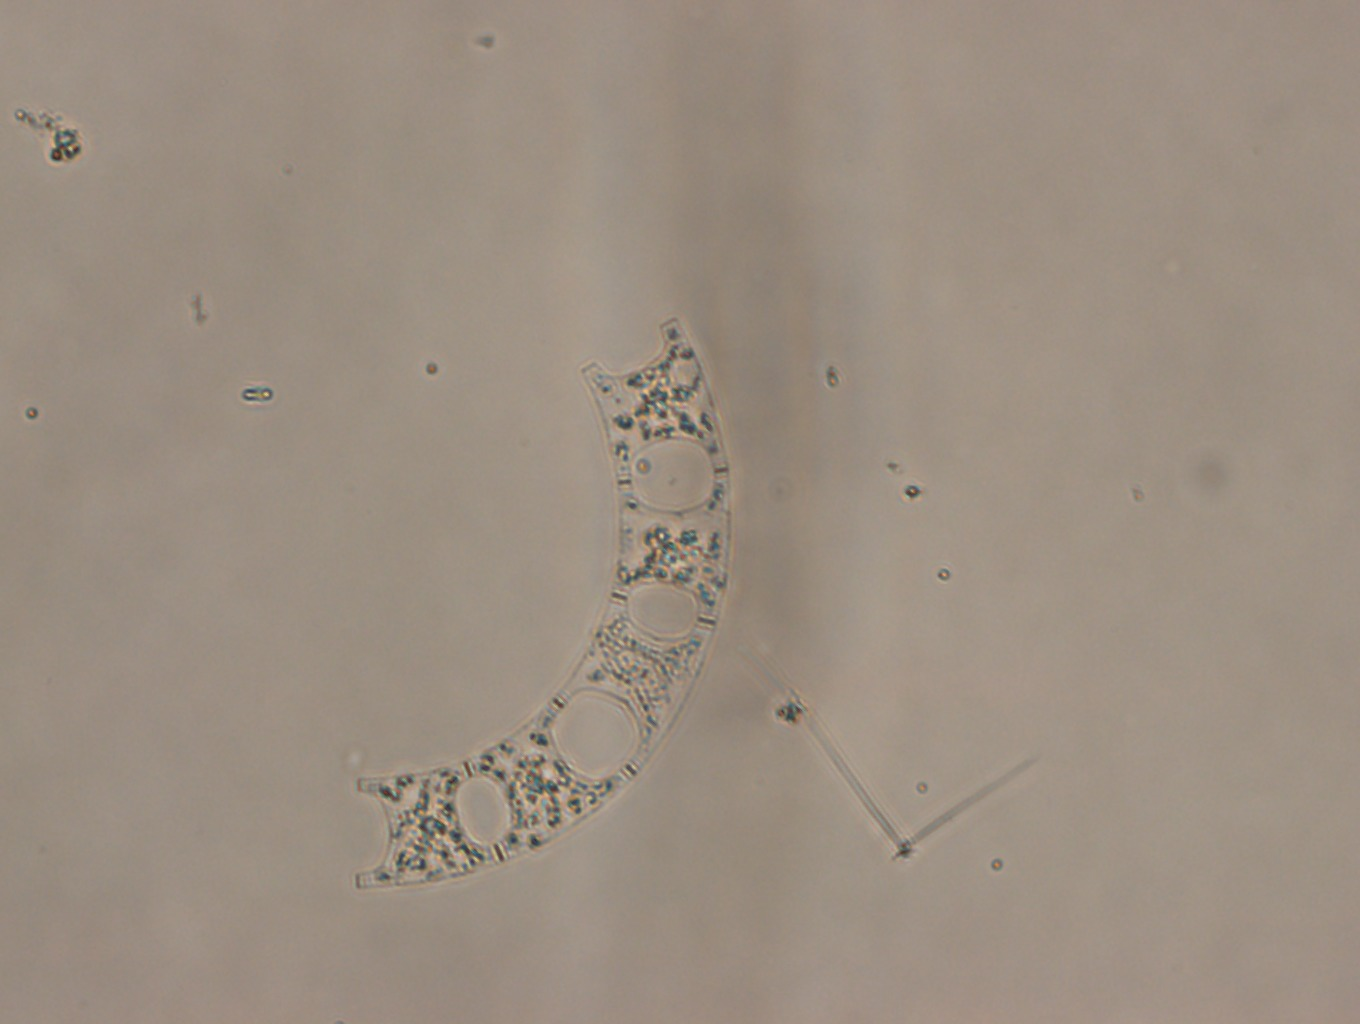eucampia: (350, 313, 733, 894)
